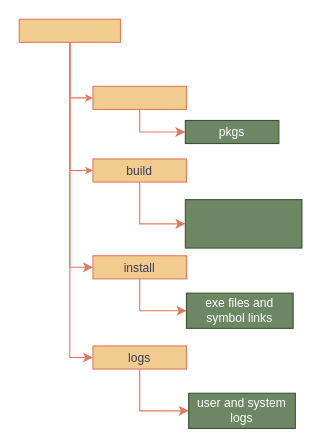
Image size: 321x448. Some labels were removed from this diagram. The shapes that lost their labels are listed below. From the top down, each one's centre as x and y in pixels, then its label:
At point 69,30: "env folder name".
At point 139,97: "src".
At point 243,223: "CMakeCache and other build files".
